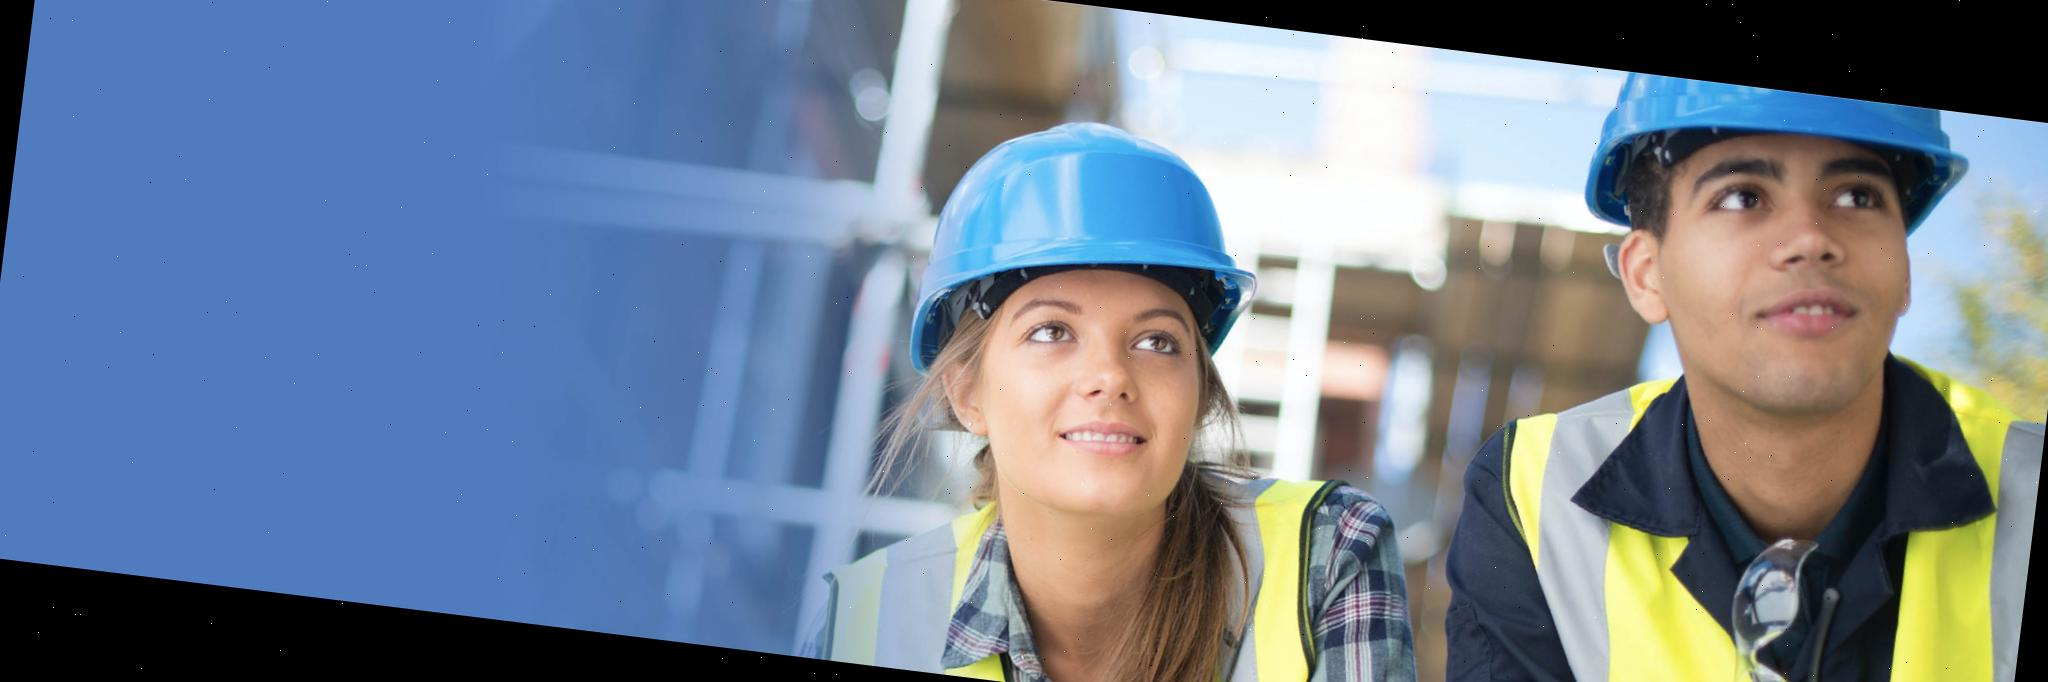helmet: (905, 101, 1280, 418), (1580, 68, 1975, 259)
wear: (1429, 374, 2043, 682), (795, 463, 1443, 682)
